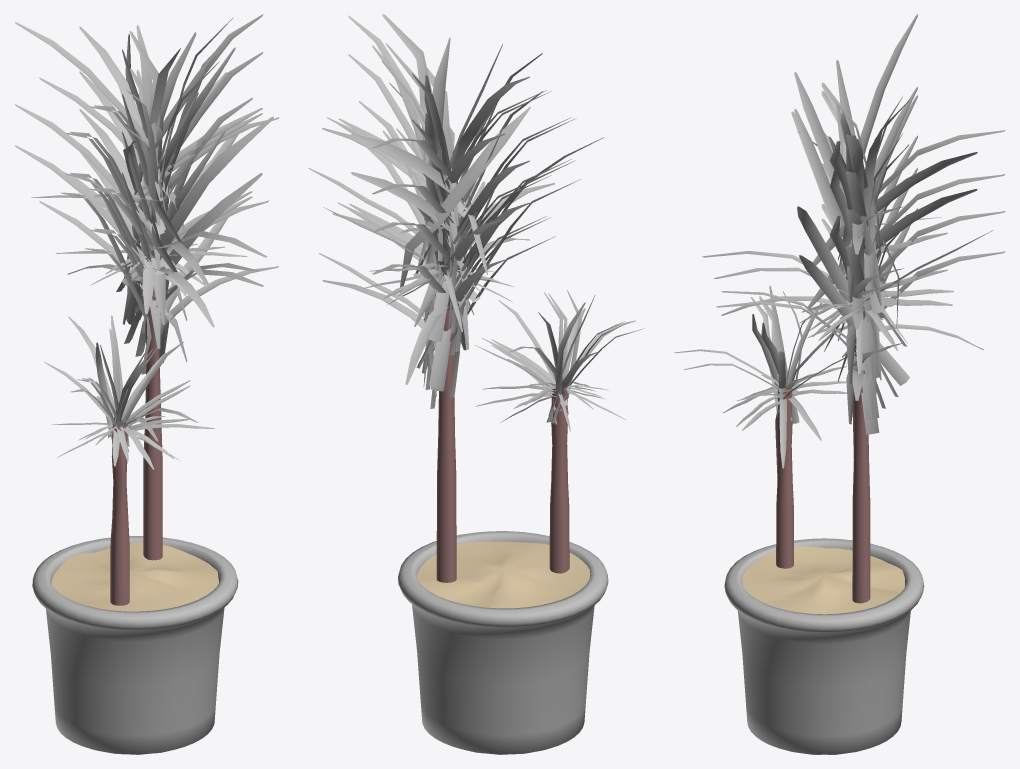
Rendered from plant.fbx.
The picture shows the model from 3 angles, left to right: view 1: azimuth 30°, elevation 25°; view 2: azimuth 150°, elevation 25°; view 3: azimuth 270°, elevation 25°; orthographic projection. The views are drawn at different scales.
Visible parts, largest first — view 1: pasted__pCylinder8, pCylinder3, pCylinder2, pCylinder1, pPlane161, pPlane164, pPlane75, pPlane152, pPlane113, pPlane138, pPlane143, pPlane111 (+31 smaller); view 2: pasted__pCylinder8, pCylinder3, pCylinder2, pCylinder1, pPlane101, pPlane131, pPlane155, pPlane152, pPlane164, pPlane98, pPlane136, pPlane68 (+13 smaller); view 3: pasted__pCylinder8, pCylinder3, pCylinder2, pCylinder1, pPlane75, pPlane95, pPlane161, pPlane98, pPlane152, pPlane131, pPlane116, pPlane130 (+10 smaller).
Boxes of the visible parts, x1,y1,x2,y2 form: pasted__pCylinder8: (32, 536, 238, 754); pCylinder3: (51, 542, 218, 611); pCylinder2: (143, 290, 162, 560); pCylinder1: (110, 423, 129, 605); pPlane161: (152, 116, 273, 260); pPlane164: (134, 14, 263, 201); pPlane75: (135, 173, 262, 319); pPlane152: (15, 22, 162, 182); pPlane113: (79, 26, 160, 225); pPlane138: (15, 104, 150, 232); pPlane143: (14, 145, 147, 268); pPlane111: (39, 77, 185, 233); pasted__pCylinder8: (398, 531, 608, 754); pCylinder3: (417, 541, 590, 608); pCylinder2: (436, 295, 456, 582); pCylinder1: (549, 385, 569, 573); pPlane101: (400, 106, 530, 287); pPlane131: (351, 133, 471, 206); pPlane155: (348, 54, 458, 264); pPlane152: (451, 76, 529, 170); pPlane164: (348, 15, 458, 226); pPlane98: (351, 172, 471, 249); pPlane136: (424, 37, 450, 246); pPlane68: (429, 216, 477, 387); pasted__pCylinder8: (724, 538, 924, 754); pCylinder3: (742, 546, 904, 614); pCylinder2: (852, 316, 870, 603); pCylinder1: (775, 387, 793, 568); pPlane75: (799, 255, 909, 385); pPlane95: (794, 108, 884, 318); pPlane161: (797, 206, 848, 300); pPlane98: (807, 189, 977, 308); pPlane152: (860, 14, 917, 159); pPlane131: (806, 152, 977, 271); pPlane116: (864, 128, 884, 313); pPlane130: (794, 72, 884, 281).
Bounding box in the file's own units: 4.5 × 11.23 × 4.99.
